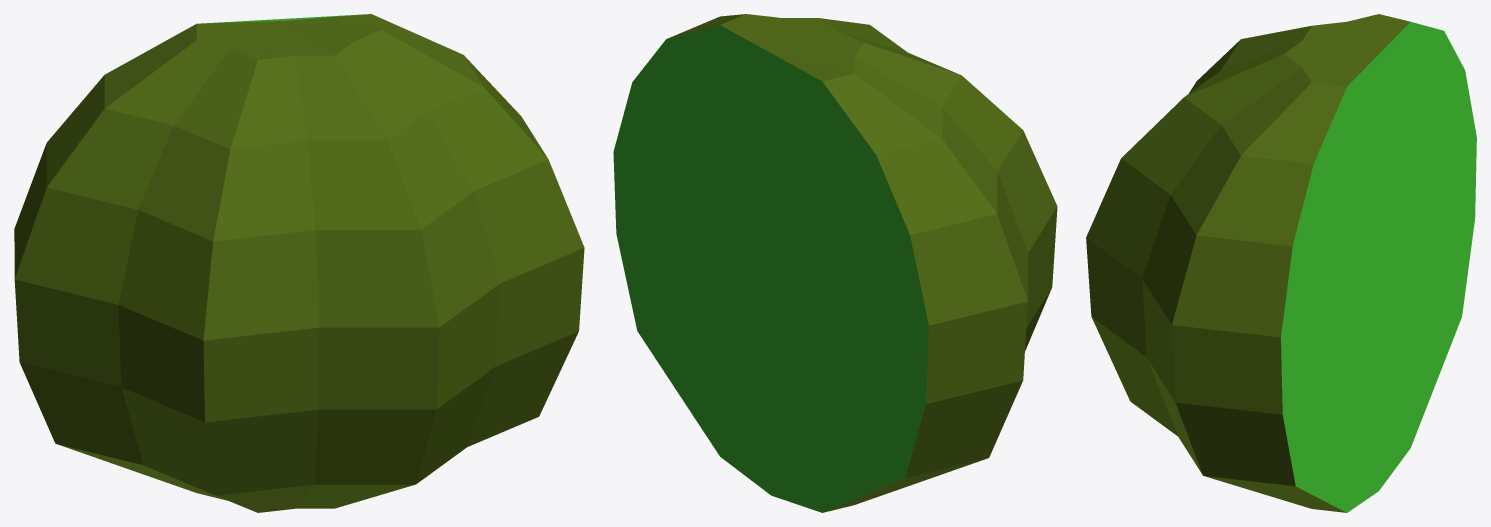
The model's file is plac1.fbx.
3 views of the same model, side by side, from view 1: azimuth 30°, elevation 25°; view 2: azimuth 150°, elevation 25°; view 3: azimuth 270°, elevation 25° (orthographic). The views are drawn at different scales.
Parts seen in each view (by area): view 1: Plant_14; view 2: Plant_14; view 3: Plant_14.
Part boxes in pixels (x1,y1,x2,y2): Plant_14: (14,14,584,512); Plant_14: (613,14,1057,512); Plant_14: (1086,14,1476,512).
Bounding box in the file's own units: 53.95 × 49.14 × 39.83.
